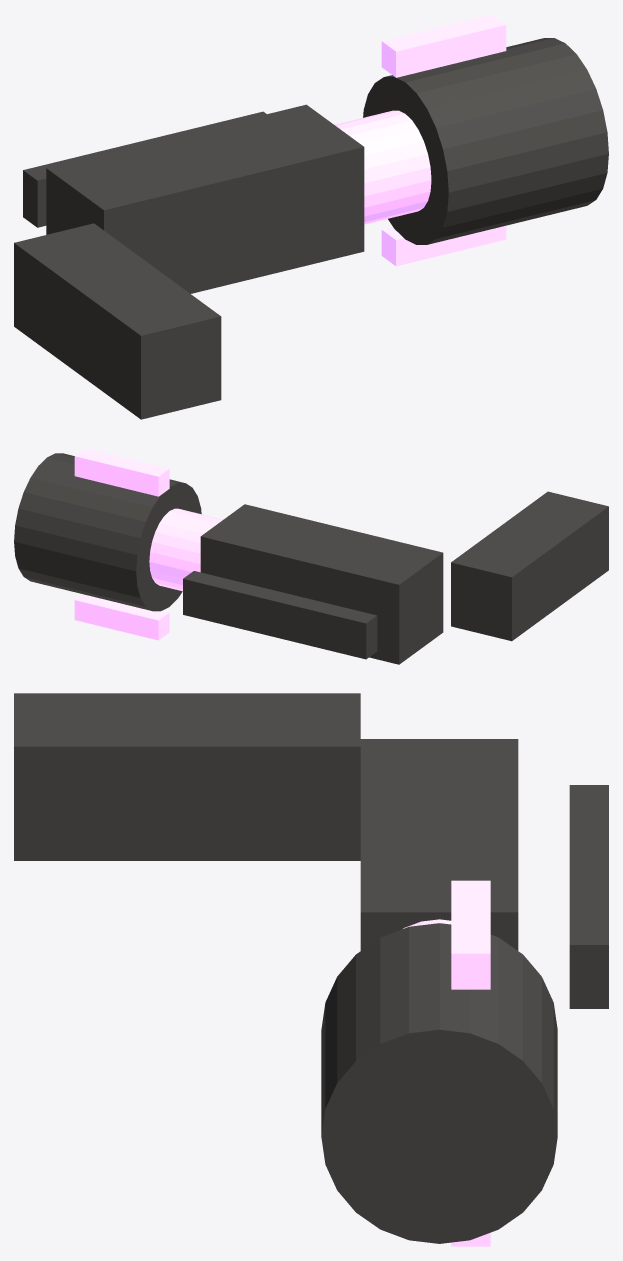
The model's file is shock_baton_blockout.glb.
3 views of the same model, one above another, from view 1: azimuth 30°, elevation 25°; view 2: azimuth 150°, elevation 25°; view 3: azimuth 270°, elevation 25° (orthographic). The views are drawn at different scales.
Parts seen in each view (by area): view 1: Body, Muzzle Coil, Grip, Energy Core, Side Prong L, Side Prong R, Top Rail; view 2: Body, Muzzle Coil, Grip, Top Rail, Energy Core, Side Prong L, Side Prong R; view 3: Muzzle Coil, Grip, Body, Top Rail, Side Prong L.
Boxes of the visible parts, <box> form: Body: <box>46,104,364,293</box>; Muzzle Coil: <box>363,38,608,244</box>; Grip: <box>14,223,221,419</box>; Energy Core: <box>335,110,431,224</box>; Side Prong L: <box>381,14,506,77</box>; Side Prong R: <box>381,225,506,266</box>; Top Rail: <box>23,111,266,227</box>; Body: <box>200,504,443,664</box>; Muzzle Coil: <box>14,453,201,611</box>; Grip: <box>451,491,608,641</box>; Top Rail: <box>183,571,377,659</box>; Energy Core: <box>149,508,222,591</box>; Side Prong L: <box>74,448,169,496</box>; Side Prong R: <box>74,594,169,640</box>; Muzzle Coil: <box>321,923,557,1243</box>; Grip: <box>14,693,360,860</box>; Body: <box>360,739,518,950</box>; Top Rail: <box>569,785,608,1008</box>; Side Prong L: <box>451,880,490,989</box>.
Bounding box in the file's own units: 0.58 × 0.205 × 0.3775.
